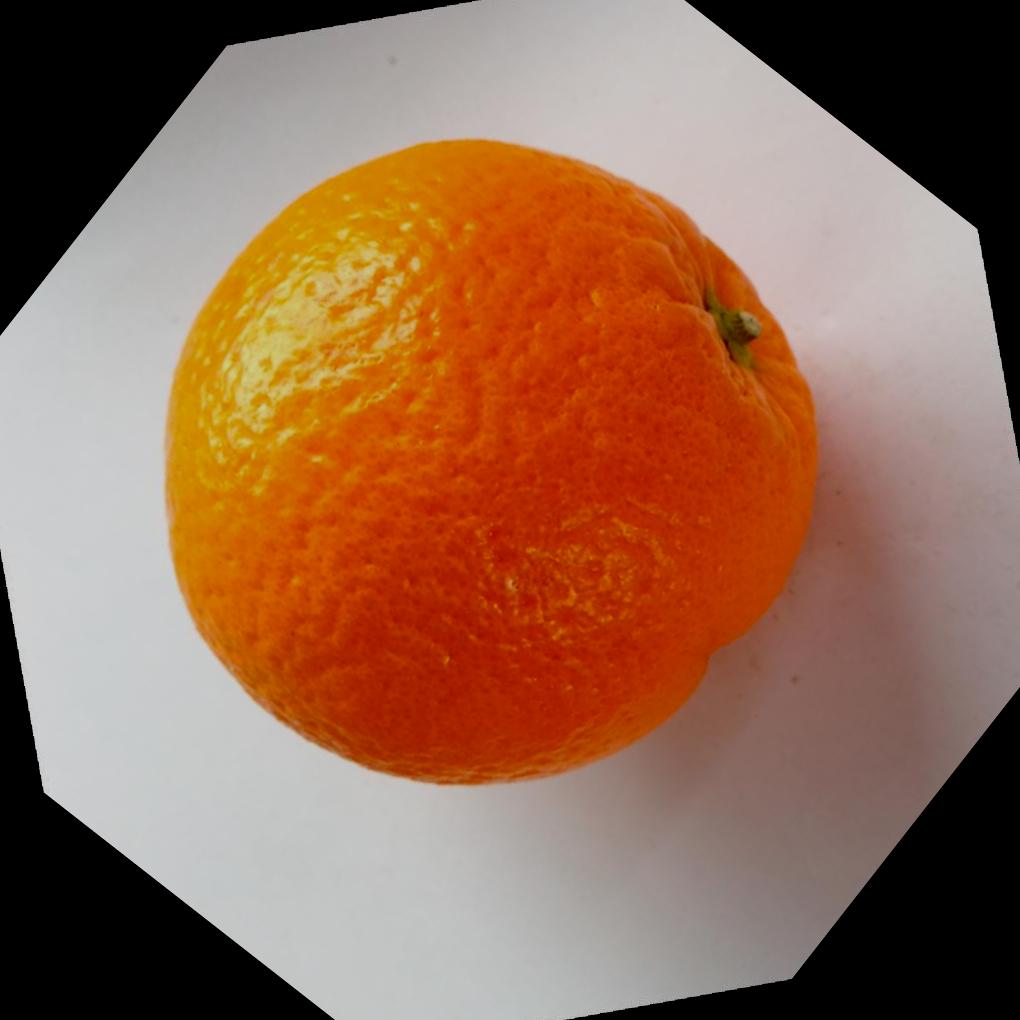FreshGuava: (162, 136, 823, 790)
